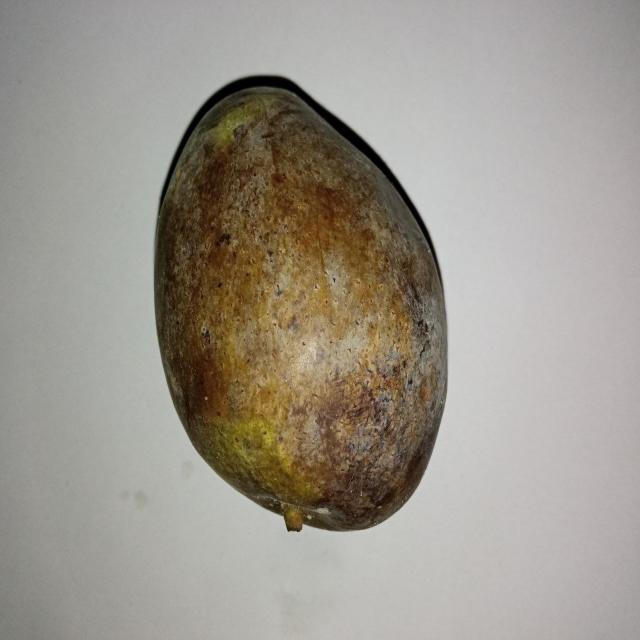rotten_mango: (151, 79, 445, 535)
